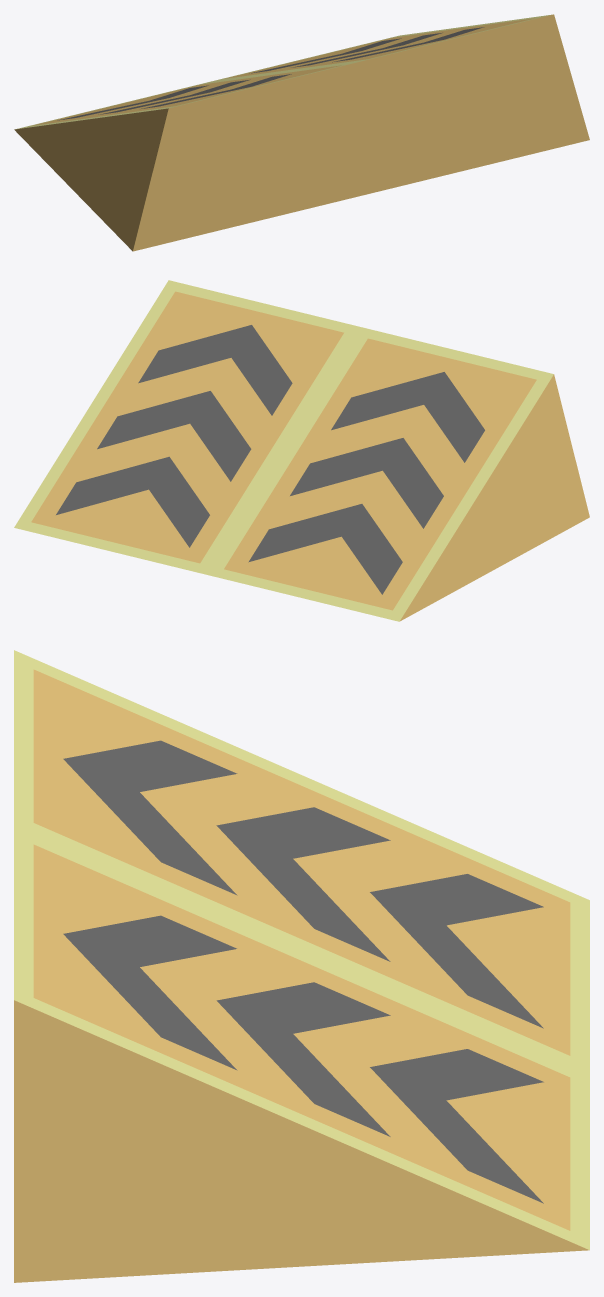
Rendered from Ramp.fbx.
The picture shows the model from 3 angles, top to bottom: view 1: azimuth 30°, elevation 25°; view 2: azimuth 150°, elevation 25°; view 3: azimuth 270°, elevation 25°; orthographic projection. The views are drawn at different scales.
Visible parts, largest first — view 1: Cube; view 2: Cube; view 3: Cube.
Boxes of the visible parts, x1,y1,x2,y2 form: Cube: (14, 14, 589, 251); Cube: (14, 280, 589, 621); Cube: (14, 650, 589, 1282).
Size of the model in its own units: 3.56 by 1 by 2.09.
